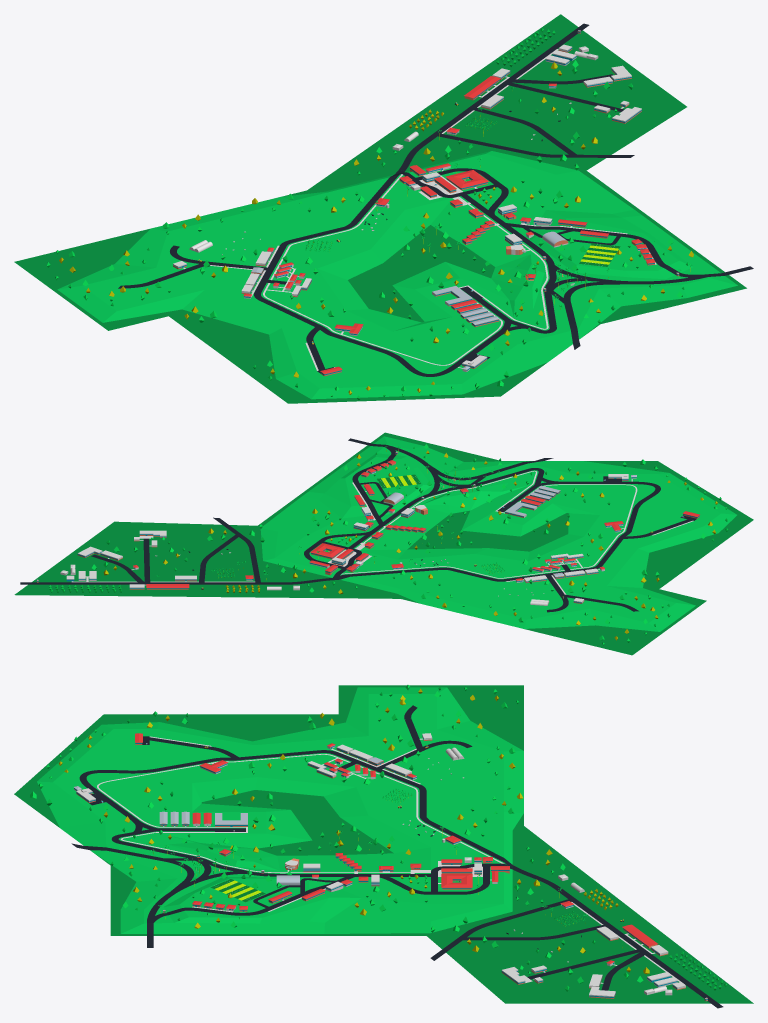
File: cmar.glb
3 views of the same model, one above another, from view 1: azimuth 30°, elevation 25°; view 2: azimuth 150°, elevation 25°; view 3: azimuth 270°, elevation 25° (orthographic). The views are drawn at different scales.
Parts seen in each view (by area): view 1: cmbnmemou.004, cmbnmetre.000_greenbase.001, cmarmeroa.047, cmarmefut; view 2: cmbnmemou.004, cmbnmetre.000_greenbase.001, cmarmeroa.047, cmarmefut; view 3: cmbnmemou.004, cmbnmetre.000_greenbase.001, cmarmeroa.047, cmarmefut.
Boxes of the visible parts, x1,y1,x2,y2 form: cmbnmemou.004: [57, 151, 737, 399]; cmbnmetre.000_greenbase.001: [14, 14, 746, 403]; cmarmeroa.047: [417, 23, 589, 146]; cmarmefut: [579, 243, 620, 266]; cmbnmemou.004: [260, 436, 736, 631]; cmbnmetre.000_greenbase.001: [14, 432, 753, 655]; cmarmeroa.047: [20, 582, 284, 584]; cmarmefut: [377, 474, 420, 488]; cmbnmemou.004: [37, 687, 523, 933]; cmbnmetre.000_greenbase.001: [14, 685, 753, 1003]; cmarmeroa.047: [554, 887, 723, 1008]; cmarmefut: [210, 879, 265, 902].
Size of the model in its own units: 16.02 by 0.3726 by 15.5.
